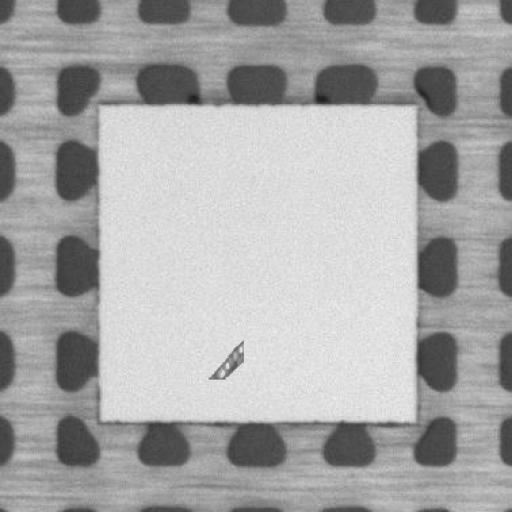DIE_INK: (208, 339, 242, 378)
